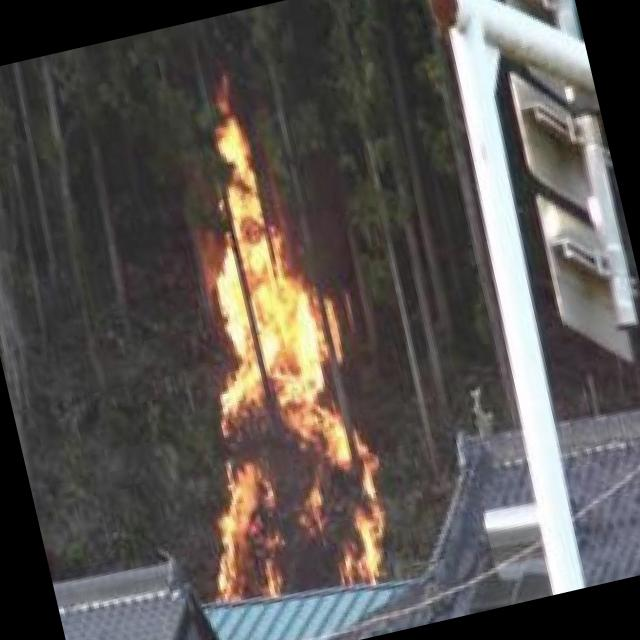Fire: (109, 62, 407, 622)
